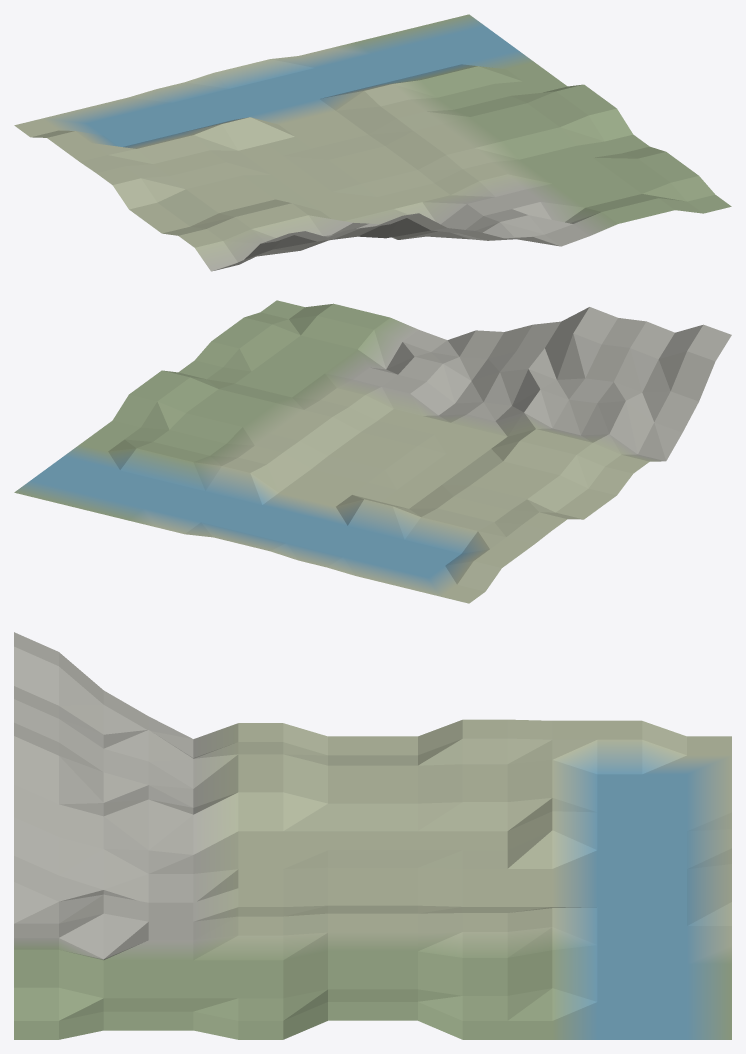
3 views of the same model, one above another, from view 1: azimuth 30°, elevation 25°; view 2: azimuth 150°, elevation 25°; view 3: azimuth 270°, elevation 25° (orthographic). The views are drawn at different scales.
Bounding box in the file's own units: 32 × 6.14 × 32.
